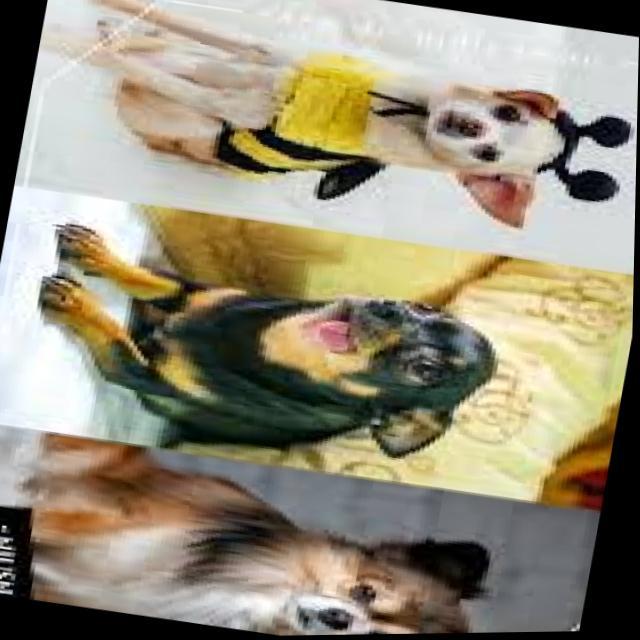dog: (17, 219, 513, 501), (19, 1, 581, 241), (49, 431, 574, 640)
